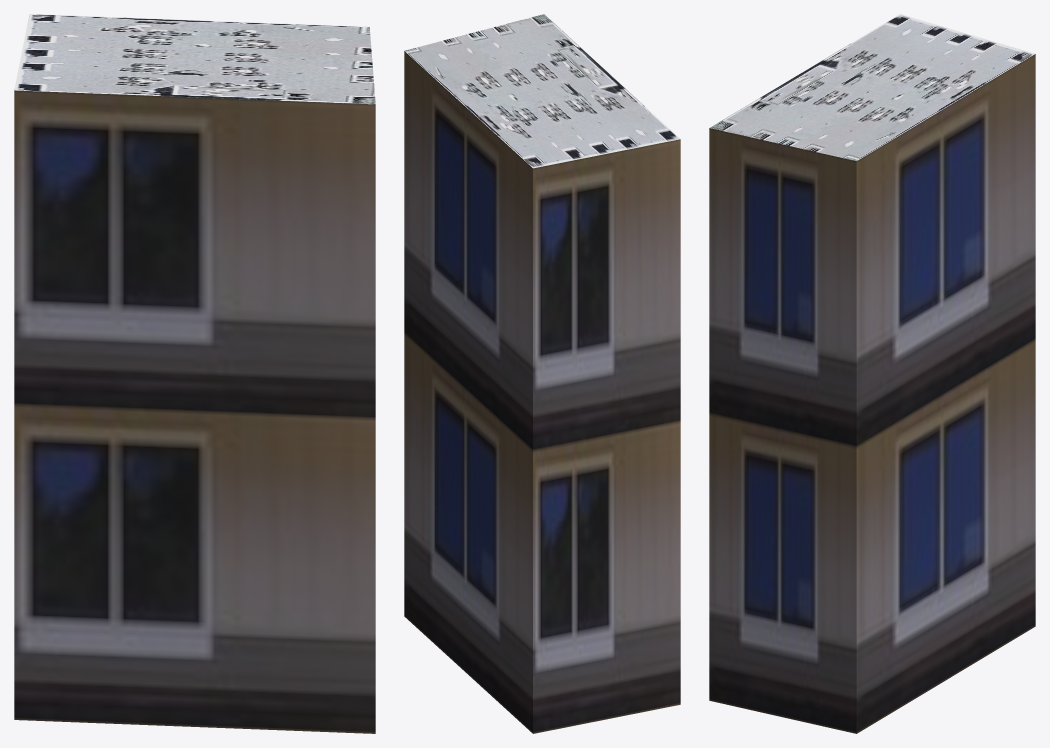
The model's file is ResTex__3939.fbx.
3 views of the same model, side by side, from view 1: azimuth 30°, elevation 25°; view 2: azimuth 150°, elevation 25°; view 3: azimuth 270°, elevation 25° (orthographic). The views are drawn at different scales.
Visible parts, largest first — view 1: CityEngineMaterial_5_m, CityEngineMaterial_m; view 2: CityEngineMaterial_5_m, CityEngineMaterial_m; view 3: CityEngineMaterial_5_m, CityEngineMaterial_m.
Part boxes in pixels (box(x1,y1,x2,y2)): CityEngineMaterial_5_m: box(14, 90, 375, 733); CityEngineMaterial_m: box(14, 14, 375, 104); CityEngineMaterial_5_m: box(404, 51, 680, 733); CityEngineMaterial_m: box(404, 14, 680, 168); CityEngineMaterial_5_m: box(709, 54, 1035, 733); CityEngineMaterial_m: box(710, 14, 1034, 161).
Size of the model in its own units: 3.31 by 6 by 3.1.
2 materials, 2 textured.
